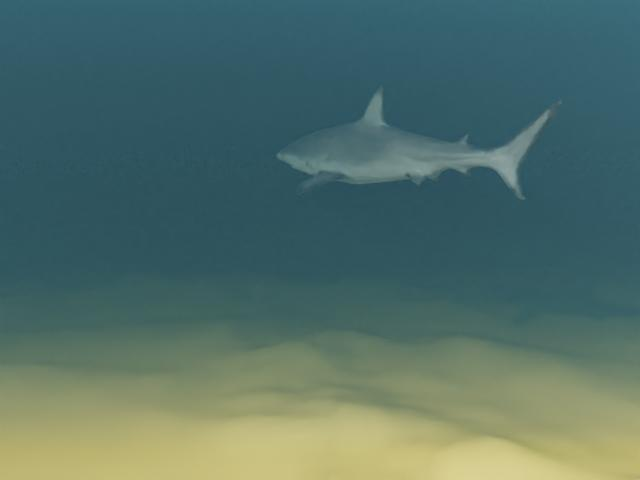Carribean Shark.001: (276, 85, 562, 200)
